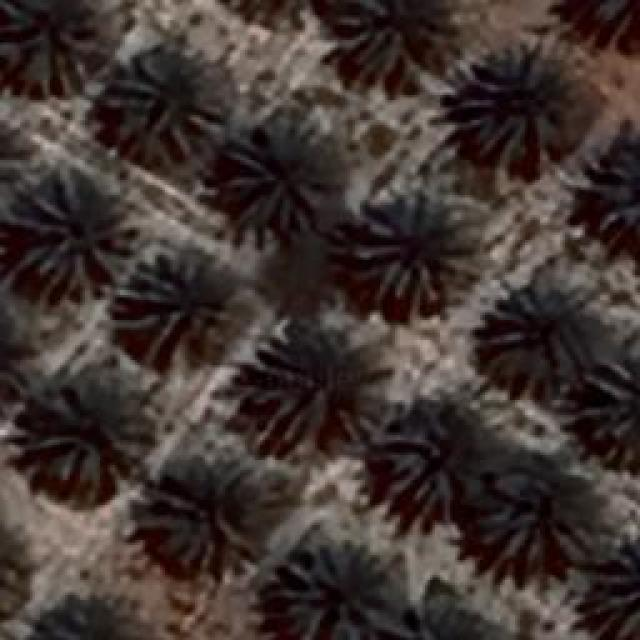PalmTree: (119, 50, 614, 587), (52, 106, 119, 615), (242, 328, 388, 448), (352, 185, 478, 310), (118, 250, 248, 365), (27, 378, 155, 492), (132, 458, 258, 572), (9, 178, 132, 292), (105, 48, 230, 160), (470, 465, 608, 565), (450, 45, 562, 160), (270, 542, 400, 638), (220, 122, 330, 235), (327, 0, 454, 92), (480, 294, 590, 396), (2, 0, 108, 95), (385, 427, 475, 515), (582, 357, 638, 465), (592, 128, 638, 238), (390, 607, 498, 640), (0, 99, 25, 223), (0, 295, 24, 420), (0, 512, 26, 624), (569, 0, 640, 41), (219, 0, 335, 24), (0, 293, 17, 413)
